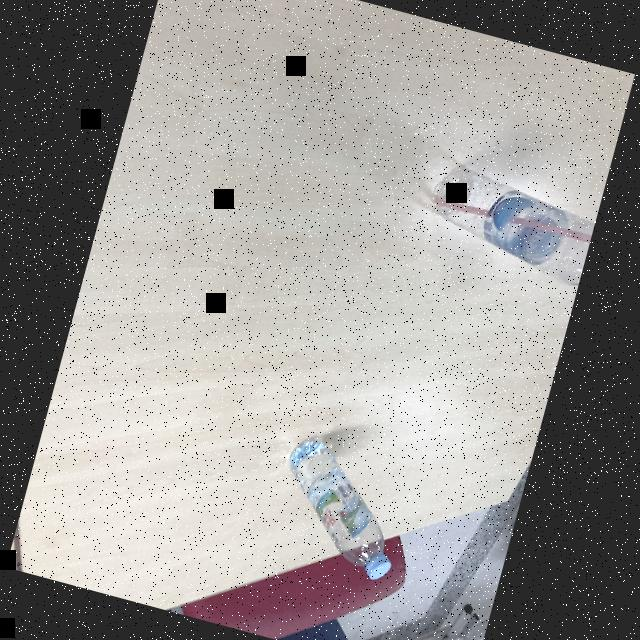plastic_bottle: (264, 430, 421, 586), (419, 160, 600, 286)
plastic_bottle_cap: (362, 550, 392, 582)
straw: (432, 190, 592, 247)
